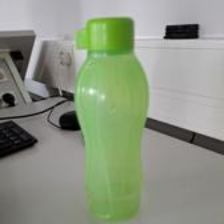bottle: (71, 14, 151, 216)
